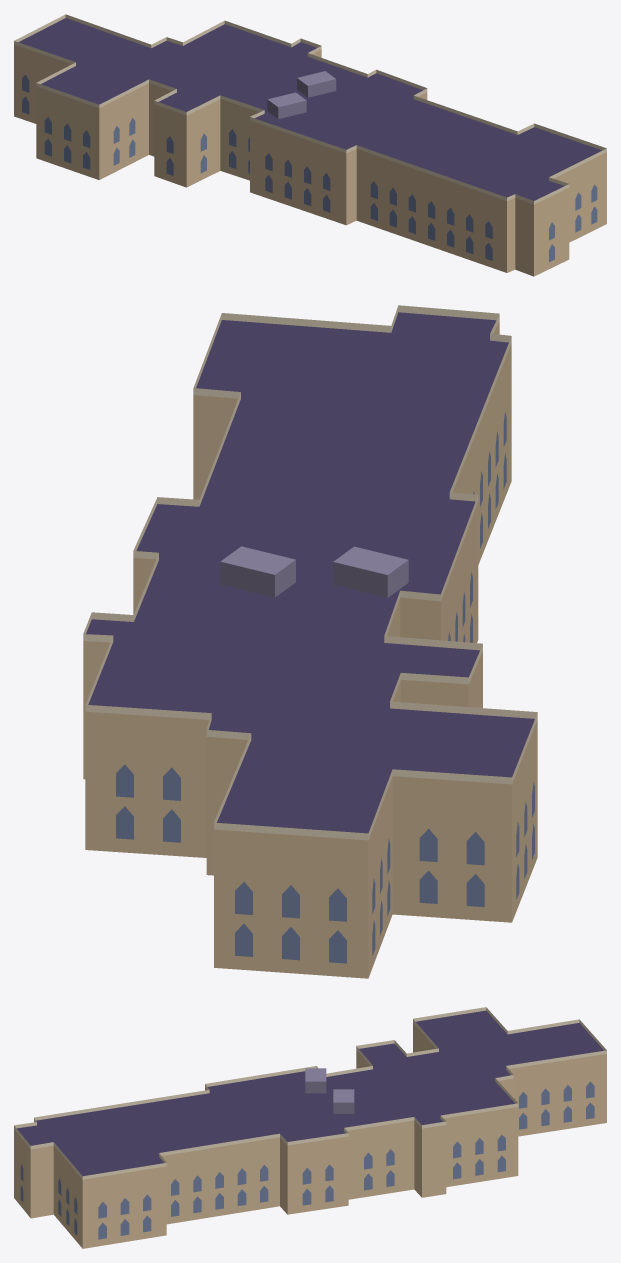
File: b-047-day.glb
3 views of the same model, one above another, from view 1: azimuth 30°, elevation 25°; view 2: azimuth 150°, elevation 25°; view 3: azimuth 270°, elevation 25° (orthographic). The views are drawn at different scales.
Visible parts, largest first — view 1: campus/b-047-day-0; view 2: campus/b-047-day-0; view 3: campus/b-047-day-0.
Boxes of the visible parts, left/top/right/bottom form: campus/b-047-day-0: left=14, top=14, right=606, bottom=276; campus/b-047-day-0: left=83, top=305, right=537, bottom=978; campus/b-047-day-0: left=14, top=1007, right=606, bottom=1248.
Size of the model in its own units: 57.21 by 12.7 by 84.73.
